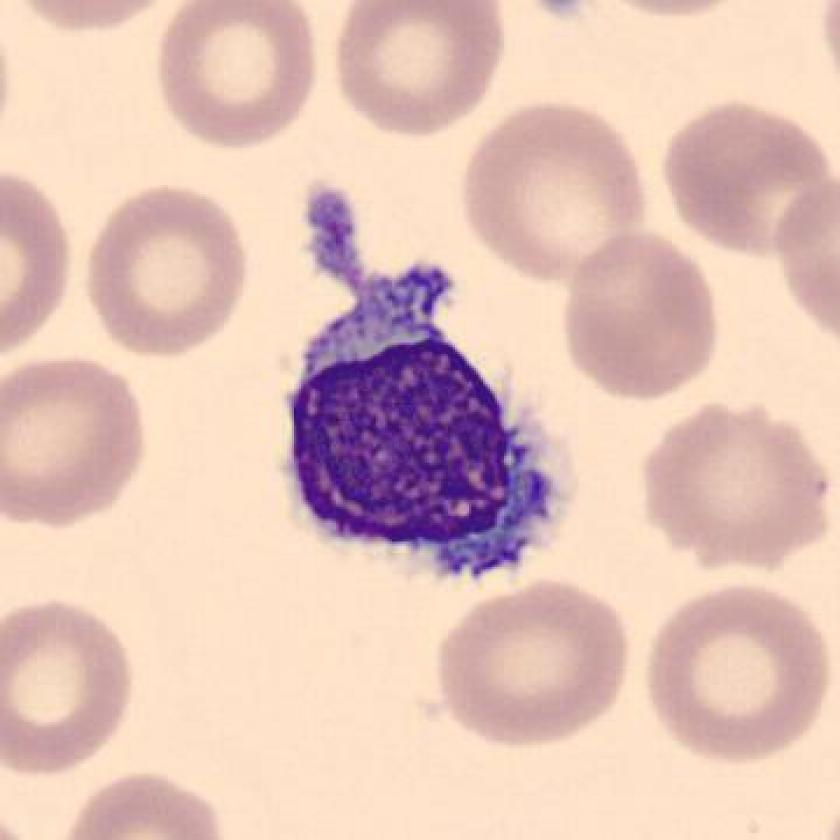lymphocyte: (267, 170, 577, 607)
